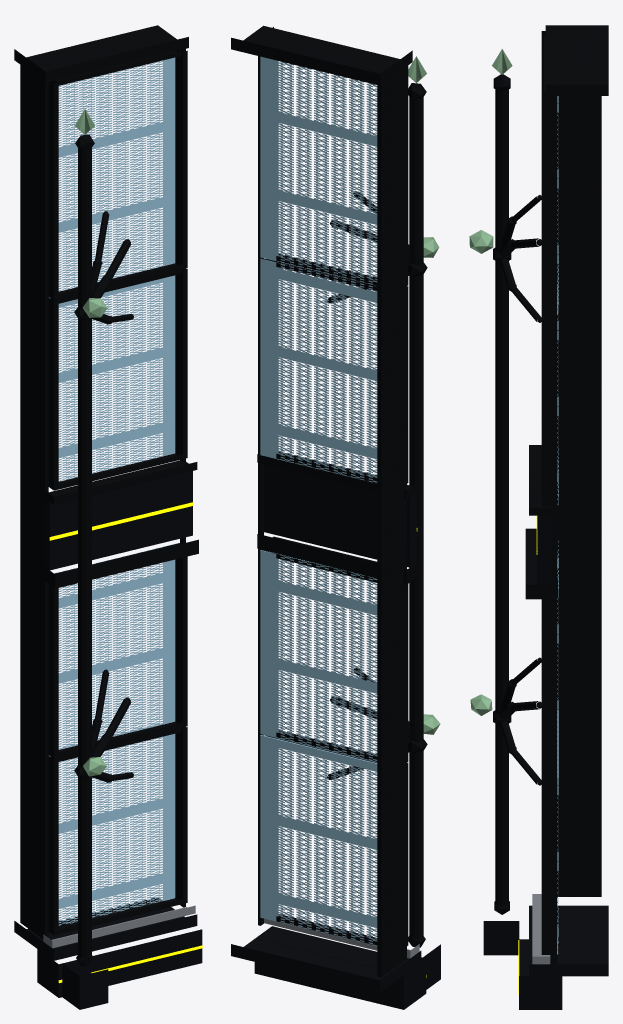
File: tt_facade_bay_half.glb
3 views of the same model, side by side, from view 1: azimuth 30°, elevation 25°; view 2: azimuth 150°, elevation 25°; view 3: azimuth 270°, elevation 25° (orthographic). The views are drawn at different scales.
Parts seen in each view (by area): view 1: Frame, Pane_Scissor_30, Pane_Scissor_20, Branch_Trunk, Pane_Scissor_00, Pane_Scissor_10, Spandrel_Band, Plinth_Ledge, Trunk_Pedestal, Slate_Sill, Fork_Leaves, Spandrel_Court_Line; view 2: Frame, Pane_Scissor_30, Pane_Scissor_20, Pane_Scissor_00, Pane_Scissor_10, Branch_Trunk, Plinth_Ledge, Spandrel_Band, Fork_Leaves, Slate_Sill, Trunk_Pedestal; view 3: Frame, Branch_Trunk, Plinth_Ledge, Trunk_Pedestal, Fork_Leaves, Spandrel_Band, Slate_Sill.
Boxes of the visible parts, x1,y1,x2,y2 form: Frame: [14, 25, 198, 939]; Pane_Scissor_30: [58, 57, 175, 291]; Pane_Scissor_20: [49, 275, 175, 481]; Branch_Trunk: [74, 134, 133, 965]; Pane_Scissor_00: [49, 734, 175, 925]; Pane_Scissor_10: [54, 543, 178, 749]; Spandrel_Band: [43, 471, 192, 570]; Plinth_Ledge: [14, 898, 202, 997]; Trunk_Pedestal: [62, 963, 108, 1009]; Slate_Sill: [43, 905, 195, 948]; Fork_Leaves: [74, 109, 107, 776]; Spandrel_Court_Line: [49, 502, 193, 540]; Frame: [231, 25, 422, 977]; Pane_Scissor_30: [260, 56, 377, 284]; Pane_Scissor_20: [260, 258, 377, 482]; Pane_Scissor_00: [260, 735, 377, 945]; Pane_Scissor_10: [260, 550, 377, 762]; Branch_Trunk: [327, 83, 427, 947]; Plinth_Ledge: [231, 926, 426, 1009]; Spandrel_Band: [264, 464, 416, 567]; Fork_Leaves: [408, 56, 440, 734]; Slate_Sill: [264, 918, 419, 958]; Trunk_Pedestal: [407, 944, 440, 989]; Frame: [525, 25, 608, 964]; Branch_Trunk: [493, 74, 541, 914]; Plinth_Ledge: [519, 905, 608, 1009]; Trunk_Pedestal: [483, 921, 519, 955]; Fork_Leaves: [469, 49, 512, 715]; Spandrel_Band: [537, 515, 550, 584]; Slate_Sill: [532, 894, 550, 964].
Size of what is drawn, in the model's own units: 2 by 12.2 by 1.66.
7 materials, 3 textured.
